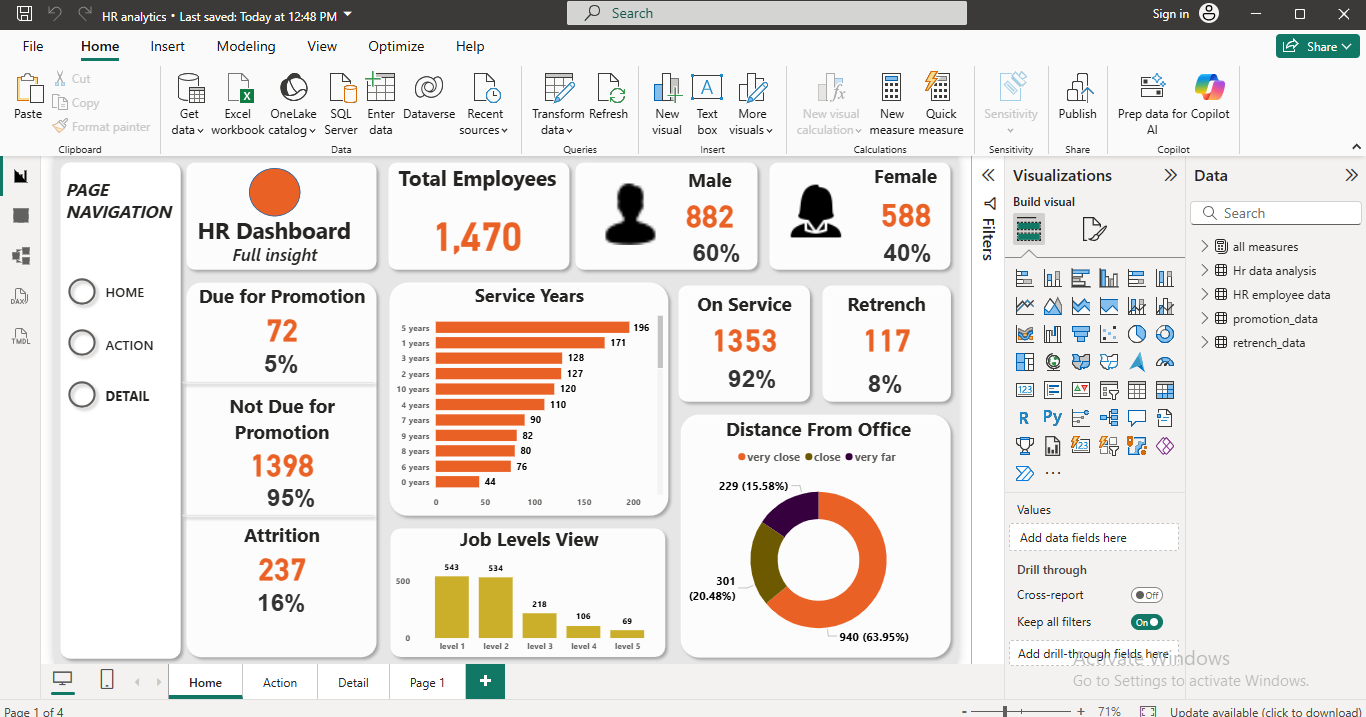

The dashboard page shown, as its layout file describes it:
{"tool":"powerbi","page":{"name":"Home","canvas":[1280,720],"ordinal":0},"visuals":[{"type":"shape","box":[0,0,188.5,721.4],"z":0},{"type":"shape","box":[464.8,0,274.6,170.2],"z":1000},{"type":"shape","box":[178.8,0,287.5,170.2],"z":2000},{"type":"shape","box":[729.4,0,276,170.2],"z":3000},{"type":"shape","box":[1005.4,0,274.6,170.2],"z":4000},{"type":"shape","box":[178.8,170.2,287.5,549.2],"z":5000},{"type":"shape","box":[466.2,170.2,413.3,349],"z":6000},{"type":"shape","box":[467.7,519.2,407.6,200.2],"z":7000},{"type":"shape","box":[875.3,174.5,204.5,183.1],"z":8000},{"type":"shape","box":[1079.8,174.5,200.2,183.1],"z":9000},{"type":"shape","box":[878.7,357.2,401.1,362.8],"z":10000},{"type":"textbox","box":[198.8,78.7,238.8,52.9],"z":11000},{"type":"textbox","box":[188.8,117.3,248.8,52.9],"z":12000},{"type":"shape","box":[276,17.2,72.9,68.6],"z":13000},{"type":"card","title":"Total Employees","fields":{"Values":["all measures.total emp"]},"box":[476.2,10,247.4,154.5],"z":14000},{"type":"card","title":"Male","fields":{"Values":["all measures.male"]},"box":[868.1,15.7,121.6,95.8],"z":15000},{"type":"card","title":"Male","fields":{"Values":["all measures.percent_female"]},"box":[1149.9,111.6,121.6,45.8],"z":16000},{"type":"image","box":[768,34.3,100.1,97.3],"z":17000},{"type":"card","title":"Female","fields":{"Values":["all measures.female"]},"box":[1142.4,9.9,129,102],"z":18000},{"type":"card","title":"Male","fields":{"Values":["all measures.percent_male"]},"box":[878.1,111.6,121.6,45.8],"z":19000},{"type":"image","box":[1029.7,25.7,98.7,105.8],"z":20000},{"type":"card","title":"Due for Promotion ","fields":{"Values":["all measures.employees due to promotion"]},"box":[191.6,220.2,254.6,90.1],"z":21000},{"type":"card","title":"Male","fields":{"Values":["all measures.%due promotion"]},"box":[267.4,314.6,121.6,45.8],"z":22000},{"type":"card","title":"Not Due for Promotion ","fields":{"Values":["all measures.not due"]},"box":[178.8,483.4,277.5,163],"z":23000},{"type":"card","title":"Male","fields":{"Values":["all measures.%not due"]},"box":[267.4,646.4,121.6,45.8],"z":24000},{"type":"shape","box":[173.1,404.7,300.3,30],"z":25000},{"type":"barChart","title":" Service Years","fields":{"Category":["Hr data analysis.service years"],"Y":["all measures.total emp"]},"box":[479.1,180.2,389,328.9],"z":26000},{"type":"columnChart","title":"Job Levels View","fields":{"Y":["all measures.total emp"],"Category":["Hr data analysis.job levels"]},"box":[479.1,524.9,389,188.8],"z":27000},{"type":"card","title":"On Service","fields":{"Values":["all measures.on service"]},"box":[898.1,191.6,160.2,95.8],"z":28000},{"type":"card","title":"Retrench","fields":{"Values":["all measures.retranchment"]},"box":[1099.8,191.6,160.2,95.8],"z":29000},{"type":"card","title":"Male","fields":{"Values":["all measures.%on service"]},"box":[929.8,292,120.5,45.4],"z":30000},{"type":"card","title":"Male","fields":{"Values":["all measures.%retrench"]},"box":[1118.3,299.1,120.5,45.4],"z":31000},{"type":"donutChart","title":"Distance From Office","fields":{"Category":["Hr data analysis.distance status"],"Y":["all measures.total emp"]},"box":[887.2,368.5,392.6,340.2],"z":32000},{"type":"actionButton","title":"HOME","box":[11.3,164.4,56.7,55.3],"z":33000},{"type":"textbox","box":[11.3,25.5,167.2,79.4],"z":34000},{"type":"textbox","box":[68,321.7,104.9,58.1],"z":35000},{"type":"actionButton","title":"HOME","box":[11.3,236.7,56.7,55.3],"z":36000},{"type":"actionButton","title":"HOME","box":[11.3,310.4,56.7,55.3],"z":37000},{"type":"textbox","box":[68,174.3,95,45.4],"z":38000},{"type":"textbox","box":[68,249.4,95,42.5],"z":39000}]}

Visuals, with their boxes on the page's 1280x720 design canvas (x1, y1, x2, y2). These are canvas units, not pixel positions in the 1366x717 screenshot, which may show the page scaled, cropped or inside an application window:
shape: box=[0, 0, 188, 721]
shape: box=[465, 0, 739, 170]
shape: box=[179, 0, 466, 170]
shape: box=[729, 0, 1005, 170]
shape: box=[1005, 0, 1280, 170]
shape: box=[179, 170, 466, 719]
shape: box=[466, 170, 880, 519]
shape: box=[468, 519, 875, 719]
shape: box=[875, 174, 1080, 358]
shape: box=[1080, 174, 1280, 358]
shape: box=[879, 357, 1280, 720]
textbox: box=[199, 79, 438, 132]
textbox: box=[189, 117, 438, 170]
shape: box=[276, 17, 349, 86]
"Total Employees" card: box=[476, 10, 724, 164]
"Male" card: box=[868, 16, 990, 112]
"Male" card: box=[1150, 112, 1272, 157]
image: box=[768, 34, 868, 132]
"Female" card: box=[1142, 10, 1271, 112]
"Male" card: box=[878, 112, 1000, 157]
image: box=[1030, 26, 1128, 132]
"Due for Promotion " card: box=[192, 220, 446, 310]
"Male" card: box=[267, 315, 389, 360]
"Not Due for Promotion " card: box=[179, 483, 456, 646]
"Male" card: box=[267, 646, 389, 692]
shape: box=[173, 405, 473, 435]
" Service Years" barChart: box=[479, 180, 868, 509]
"Job Levels View" columnChart: box=[479, 525, 868, 714]
"On Service" card: box=[898, 192, 1058, 287]
"Retrench" card: box=[1100, 192, 1260, 287]
"Male" card: box=[930, 292, 1050, 337]
"Male" card: box=[1118, 299, 1239, 344]
"Distance From Office" donutChart: box=[887, 368, 1280, 709]
"HOME" actionButton: box=[11, 164, 68, 220]
textbox: box=[11, 26, 178, 105]
textbox: box=[68, 322, 173, 380]
"HOME" actionButton: box=[11, 237, 68, 292]
"HOME" actionButton: box=[11, 310, 68, 366]
textbox: box=[68, 174, 163, 220]
textbox: box=[68, 249, 163, 292]
